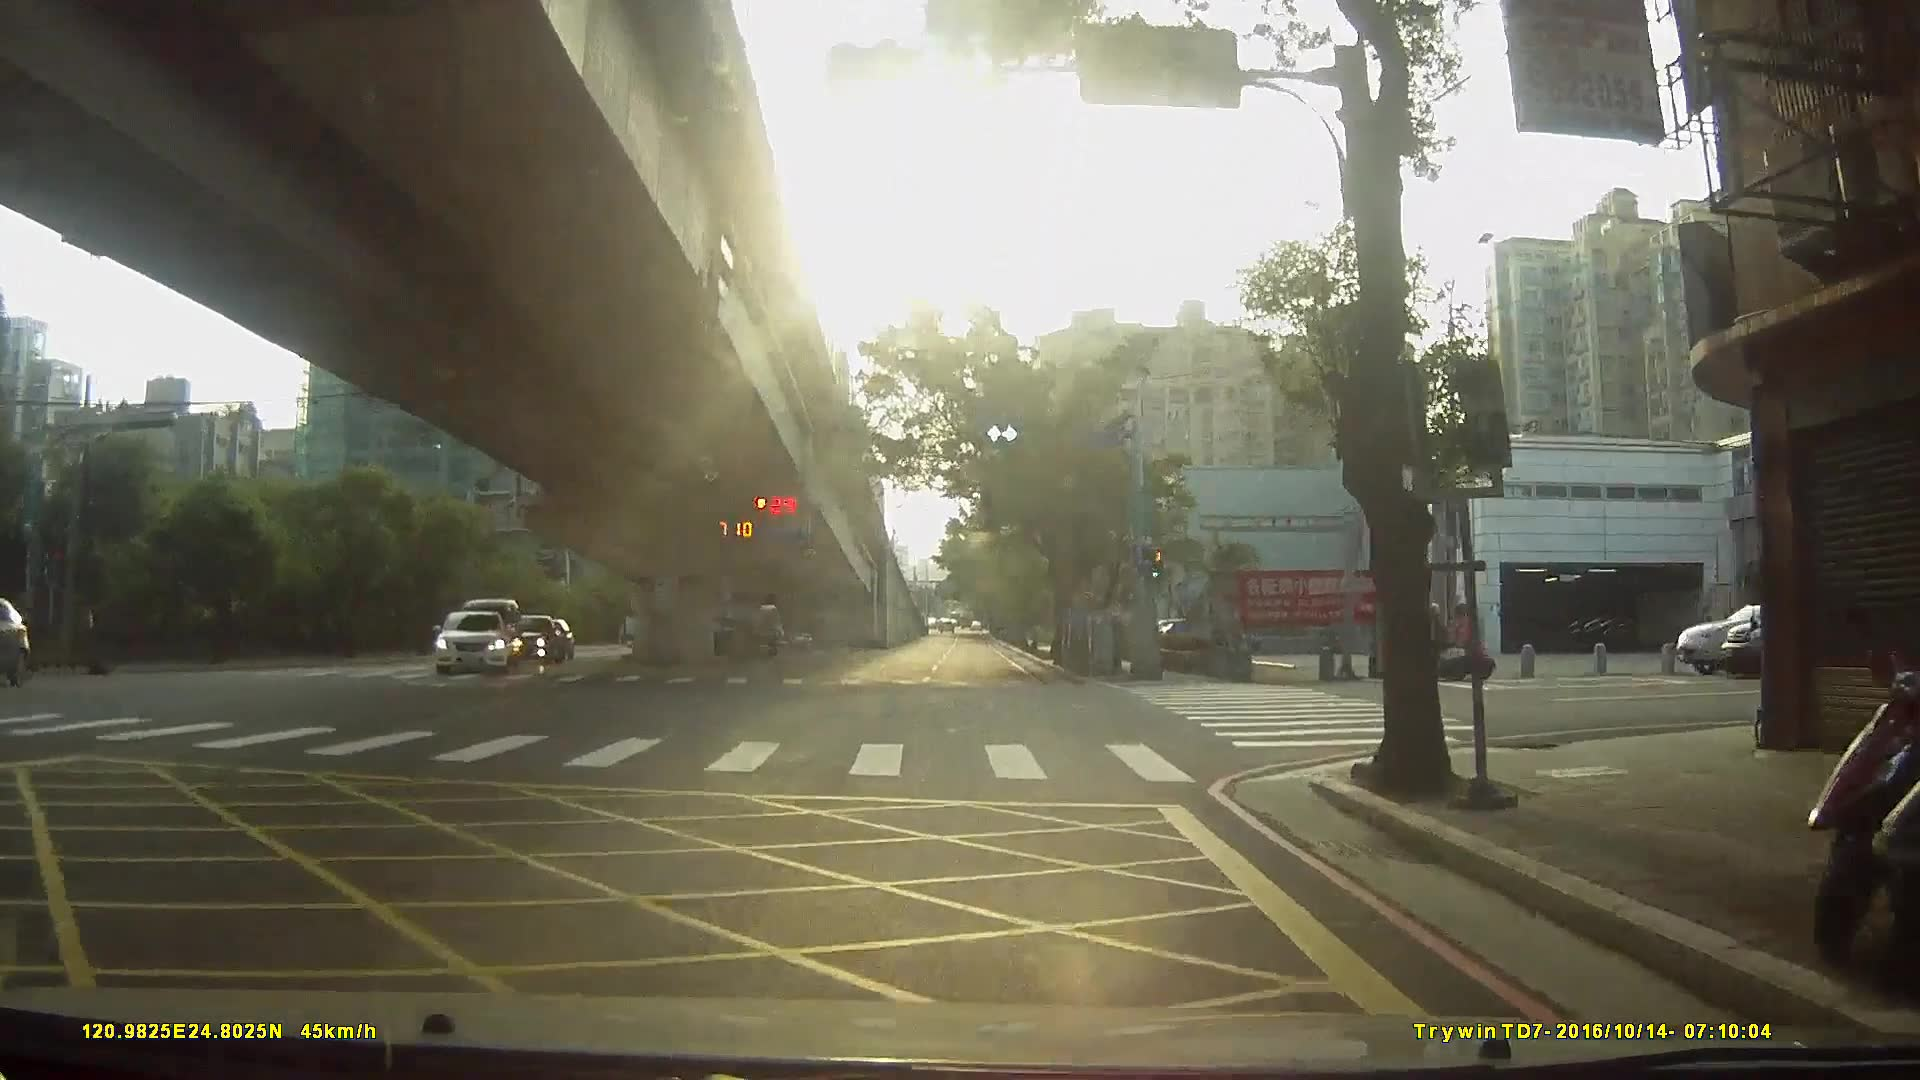vehicle: (1727, 585, 1919, 678), (1681, 589, 1873, 676), (426, 607, 506, 675), (684, 607, 781, 659), (496, 611, 563, 662), (1, 597, 37, 688)
